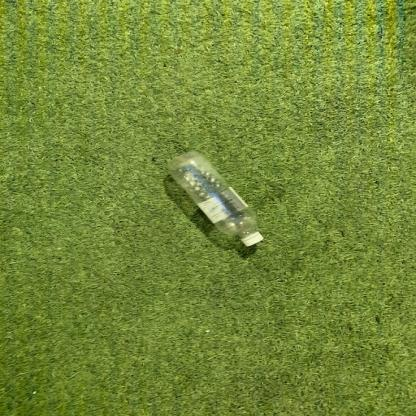trash: (163, 150, 266, 248)
